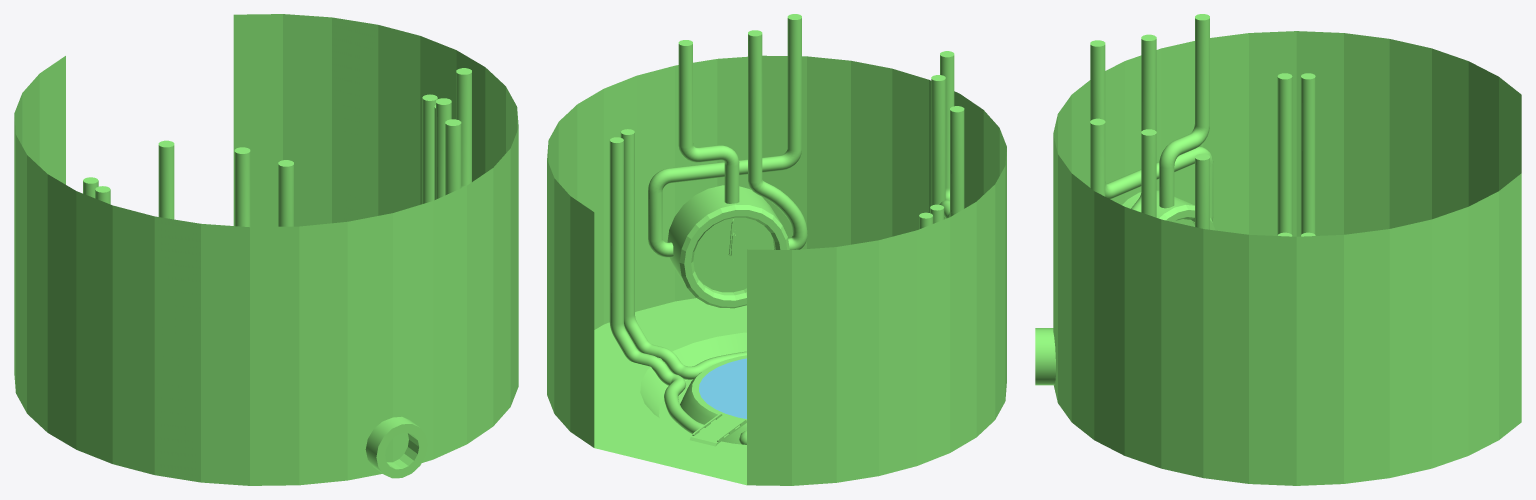
The model's file is BossRoom.fbx.
3 views of the same model, side by side, from view 1: azimuth 30°, elevation 25°; view 2: azimuth 150°, elevation 25°; view 3: azimuth 270°, elevation 25° (orthographic). The views are drawn at different scales.
Visible parts, largest first — view 1: Cylinder001, Cylinder012, Cylinder011, Cylinder003, Cylinder002; view 2: Cylinder001, Cylinder012, Cylinder002, Cylinder011, Object009, Box001; view 3: Cylinder001, Cylinder011, Cylinder002, Cylinder012, Cylinder003.
Boxes of the visible parts, box(x1,y1,x2,y2) form: Cylinder001: box(14, 14, 518, 485); Cylinder012: box(436, 68, 471, 199); Cylinder011: box(158, 140, 293, 227); Cylinder003: box(365, 416, 427, 478); Cylinder002: box(83, 94, 437, 204); Cylinder001: box(547, 55, 1006, 485); Cylinder012: box(648, 14, 807, 308); Cylinder002: box(609, 129, 944, 444); Cylinder011: box(931, 51, 964, 219); Object009: box(699, 358, 746, 418); Box001: box(689, 413, 746, 446); Cylinder001: box(1053, 31, 1521, 485); Cylinder011: box(1090, 14, 1215, 230); Cylinder002: box(1277, 73, 1315, 236); Cylinder012: box(1090, 118, 1209, 229); Cylinder003: box(1035, 328, 1055, 385).
Bounding box in the file's own units: 772 × 570 × 771.
